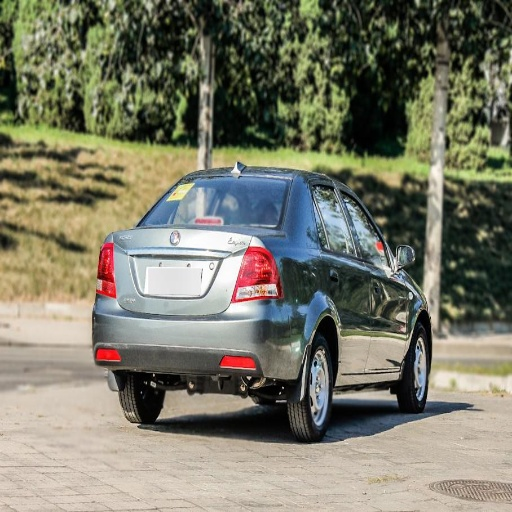back_bumper: (94, 297, 310, 389)
back_right_door: (306, 175, 372, 371)
